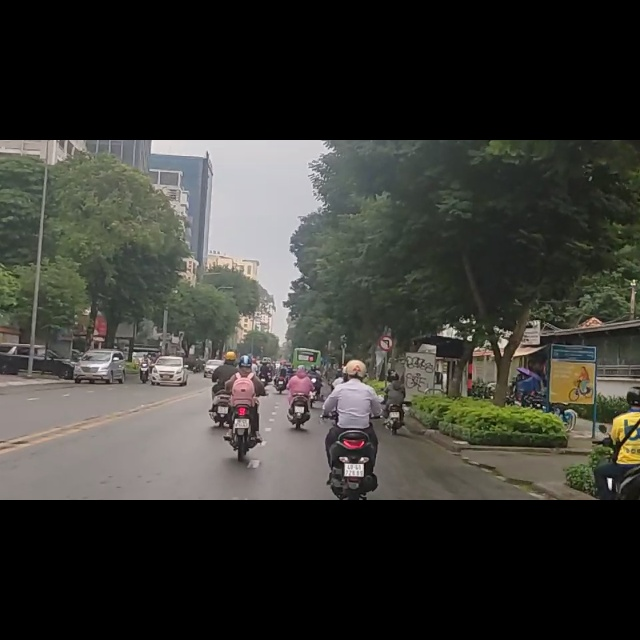bien_cam: (377, 350, 394, 376)
